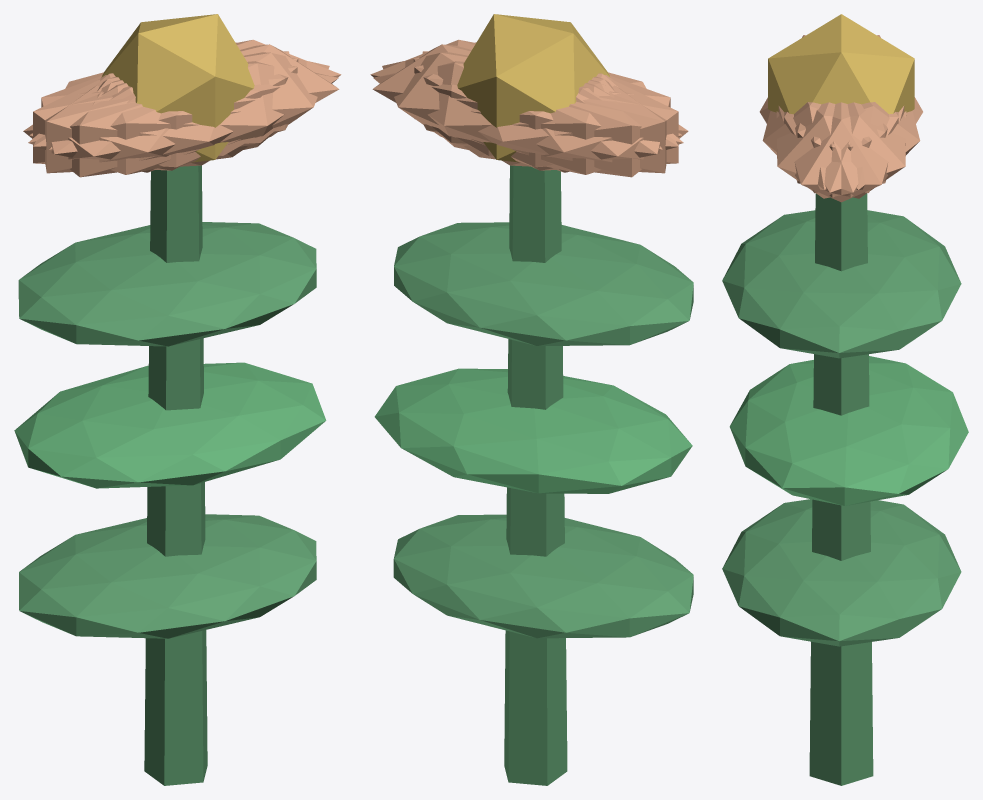
The model's file is turnera-subulata.glb.
3 renders of one model, left to right at view 1: azimuth 30°, elevation 25°; view 2: azimuth 150°, elevation 25°; view 3: azimuth 270°, elevation 25°, orthographic.
Visible parts, largest first — view 1: leaf2, leaf1, leaf0, stem, center, petal1, petal6, petal2, petal5, petal7, petal0, petal4 (+2 smaller); view 2: leaf1, leaf2, leaf0, stem, center, petal8, petal3, petal7, petal4, petal2, petal0, petal5 (+2 smaller); view 3: leaf2, leaf1, leaf0, stem, center, petal0, petal5, petal4, petal8, petal1.
Boxes of the visible parts, left/top/right/bottom form: leaf2: left=18, top=222, right=316, bottom=346; leaf1: left=14, top=362, right=326, bottom=488; leaf0: left=19, top=514, right=316, bottom=638; stem: left=144, top=165, right=207, bottom=785; center: left=101, top=14, right=254, bottom=162; petal1: left=28, top=61, right=338, bottom=174; petal6: left=23, top=75, right=247, bottom=177; petal2: left=45, top=51, right=289, bottom=173; petal5: left=49, top=52, right=329, bottom=167; petal7: left=33, top=57, right=298, bottom=170; petal0: left=101, top=44, right=339, bottom=156; petal4: left=29, top=39, right=341, bottom=146; leaf1: left=374, top=368, right=692, bottom=493; leaf2: left=394, top=222, right=693, bottom=345; leaf0: left=393, top=514, right=693, bottom=638; stem: left=504, top=165, right=567, bottom=785; center: left=457, top=14, right=610, bottom=162; petal8: left=373, top=61, right=683, bottom=174; petal3: left=464, top=75, right=688, bottom=177; petal7: left=422, top=51, right=666, bottom=173; petal4: left=382, top=52, right=662, bottom=167; petal2: left=413, top=57, right=678, bottom=170; petal0: left=372, top=44, right=610, bottom=156; petal5: left=370, top=39, right=682, bottom=146; leaf2: left=722, top=210, right=961, bottom=358; leaf1: left=729, top=356, right=968, bottom=505; leaf0: left=722, top=499, right=961, bottom=646; stem: left=809, top=193, right=873, bottom=785; center: left=768, top=14, right=914, bottom=114; petal0: left=778, top=102, right=904, bottom=202; petal5: left=776, top=102, right=898, bottom=198; petal4: left=784, top=102, right=906, bottom=198; petal8: left=795, top=102, right=920, bottom=189; petal1: left=762, top=102, right=887, bottom=189.
Size of the model in its own units: 0.1498 by 0.3404 by 0.103.
